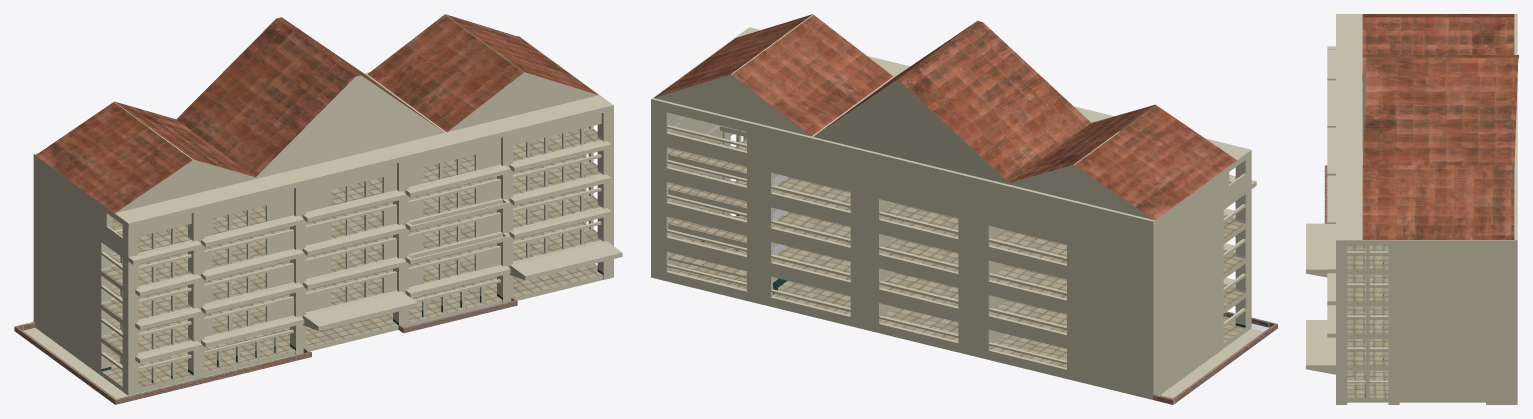
The model's file is SeniorHighSchool_Final_Design.fbx.
3 views of the same model, side by side, from view 1: azimuth 30°, elevation 25°; view 2: azimuth 150°, elevation 25°; view 3: azimuth 270°, elevation 25° (orthographic). The views are drawn at different scales.
Parts seen in each view (by area): view 1: Roof, Ground_Floor, 5th_Walls, 2nd_Floor, 2nd_Walls, 4th_Floor, 4th_Wall, 3rd_Floor, 3rd_Walls, 5th_Floor; view 2: Roof, Ground_Floor, 5th_Walls, 4th_Wall, 3rd_Walls, 2nd_Walls, 4th_Floor, 2nd_Floor, 3rd_Floor; view 3: Roof, Ground_Floor, 4th_Wall, 3rd_Walls, 2nd_Walls, 5th_Walls, 2nd_Floor, 5th_Floor, 4th_Floor, 3rd_Floor.
Boxes of the visible parts, x1,y1,x2,y2 form: Roof: [33, 14, 613, 228]; Ground_Floor: [14, 221, 613, 404]; 5th_Walls: [33, 105, 613, 257]; 2nd_Floor: [101, 222, 622, 363]; 2nd_Walls: [33, 188, 613, 357]; 4th_Floor: [70, 155, 612, 296]; 4th_Wall: [33, 139, 613, 290]; 3rd_Floor: [101, 189, 611, 330]; 3rd_Walls: [33, 154, 613, 324]; 5th_Floor: [35, 127, 611, 264]; Roof: [651, 14, 1251, 225]; Ground_Floor: [651, 207, 1277, 404]; 5th_Walls: [651, 99, 1251, 256]; 4th_Wall: [651, 117, 1251, 291]; 3rd_Walls: [651, 126, 1251, 325]; 2nd_Walls: [651, 136, 1251, 360]; 4th_Floor: [720, 125, 1250, 295]; 2nd_Floor: [735, 180, 1245, 364]; 3rd_Floor: [735, 138, 1245, 330]; Roof: [1336, 14, 1518, 244]; Ground_Floor: [1324, 165, 1517, 404]; 4th_Wall: [1336, 270, 1517, 304]; 3rd_Walls: [1336, 302, 1517, 336]; 2nd_Walls: [1336, 334, 1517, 368]; 5th_Walls: [1336, 240, 1517, 272]; 2nd_Floor: [1306, 223, 1388, 374]; 5th_Floor: [1327, 46, 1404, 274]; 4th_Floor: [1327, 273, 1403, 308]; 3rd_Floor: [1327, 305, 1404, 338].
Size of the model in its own units: 4697 by 2207 by 1795.
Materials: 7 (5 with a texture image).
